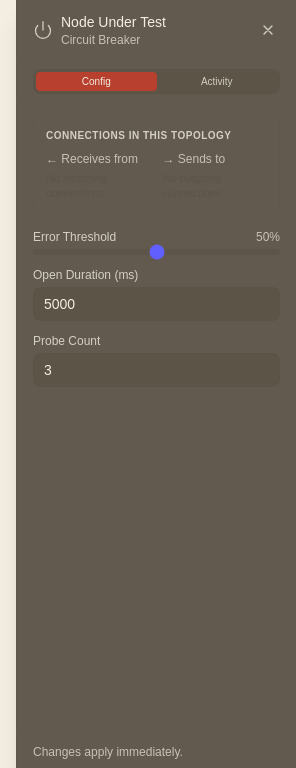
Test: NodeConfigPanel activity tab › omits queue and connection rows for a circuit breaker, which holds neither
The width and height of the screenshot is (296, 768).
Click the button "Activity" at (217, 82), box [156,72,277,91]
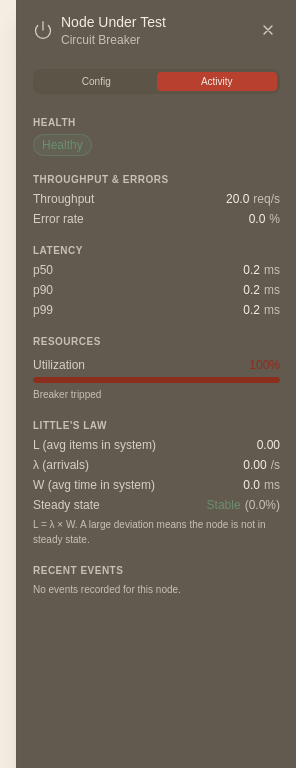
Expected: the text "Throughput" is shown, [33,191,94,207]
Expected: the text "Utilization" is shown, [33,357,85,373]
Expected: the text "Breaker tripped" is shown, [33,389,101,400]
